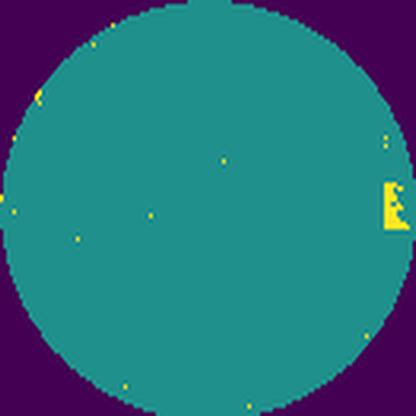Loc: (384, 178, 411, 234)
